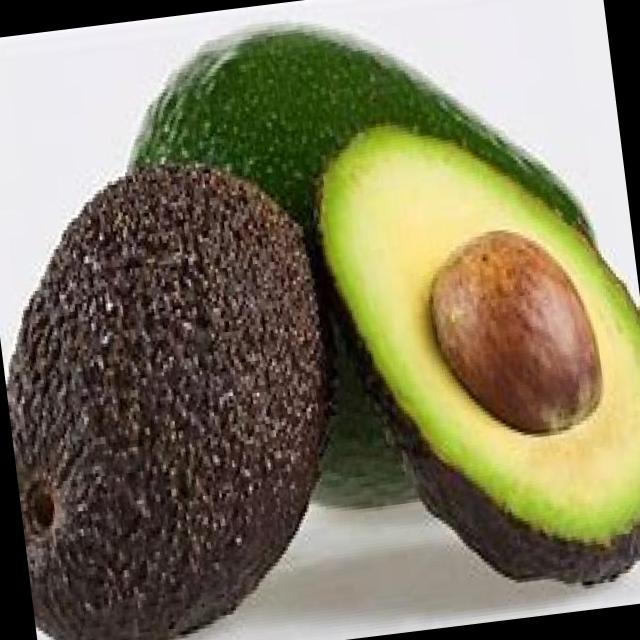avocado: (298, 95, 640, 622), (0, 153, 351, 640)
